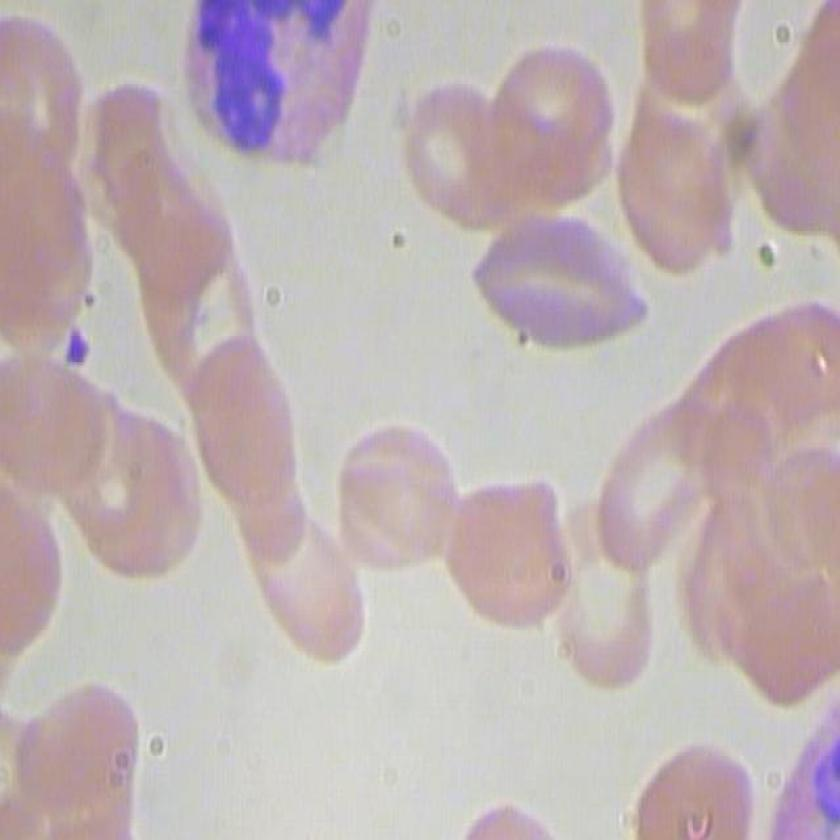eosinophil: (167, 1, 379, 162)
